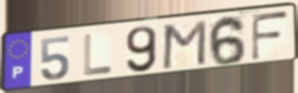5: (39, 34, 71, 82)
6: (207, 14, 248, 67)
9: (124, 24, 159, 74)
F: (250, 10, 292, 62)
L: (82, 32, 114, 78)
M: (160, 18, 209, 71)
